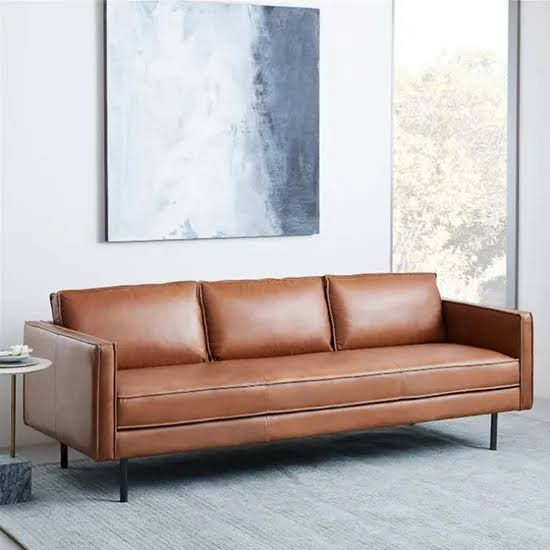3seatersofa: (24, 274, 533, 501)
backrest: (56, 283, 205, 367), (203, 279, 329, 358), (328, 274, 441, 349)
base: (118, 389, 518, 457)
leftarmrest: (444, 300, 532, 409)
leg: (120, 459, 128, 502), (490, 413, 497, 450), (60, 444, 67, 468)
rightarmrest: (24, 322, 114, 459)
seat: (118, 342, 518, 430)
